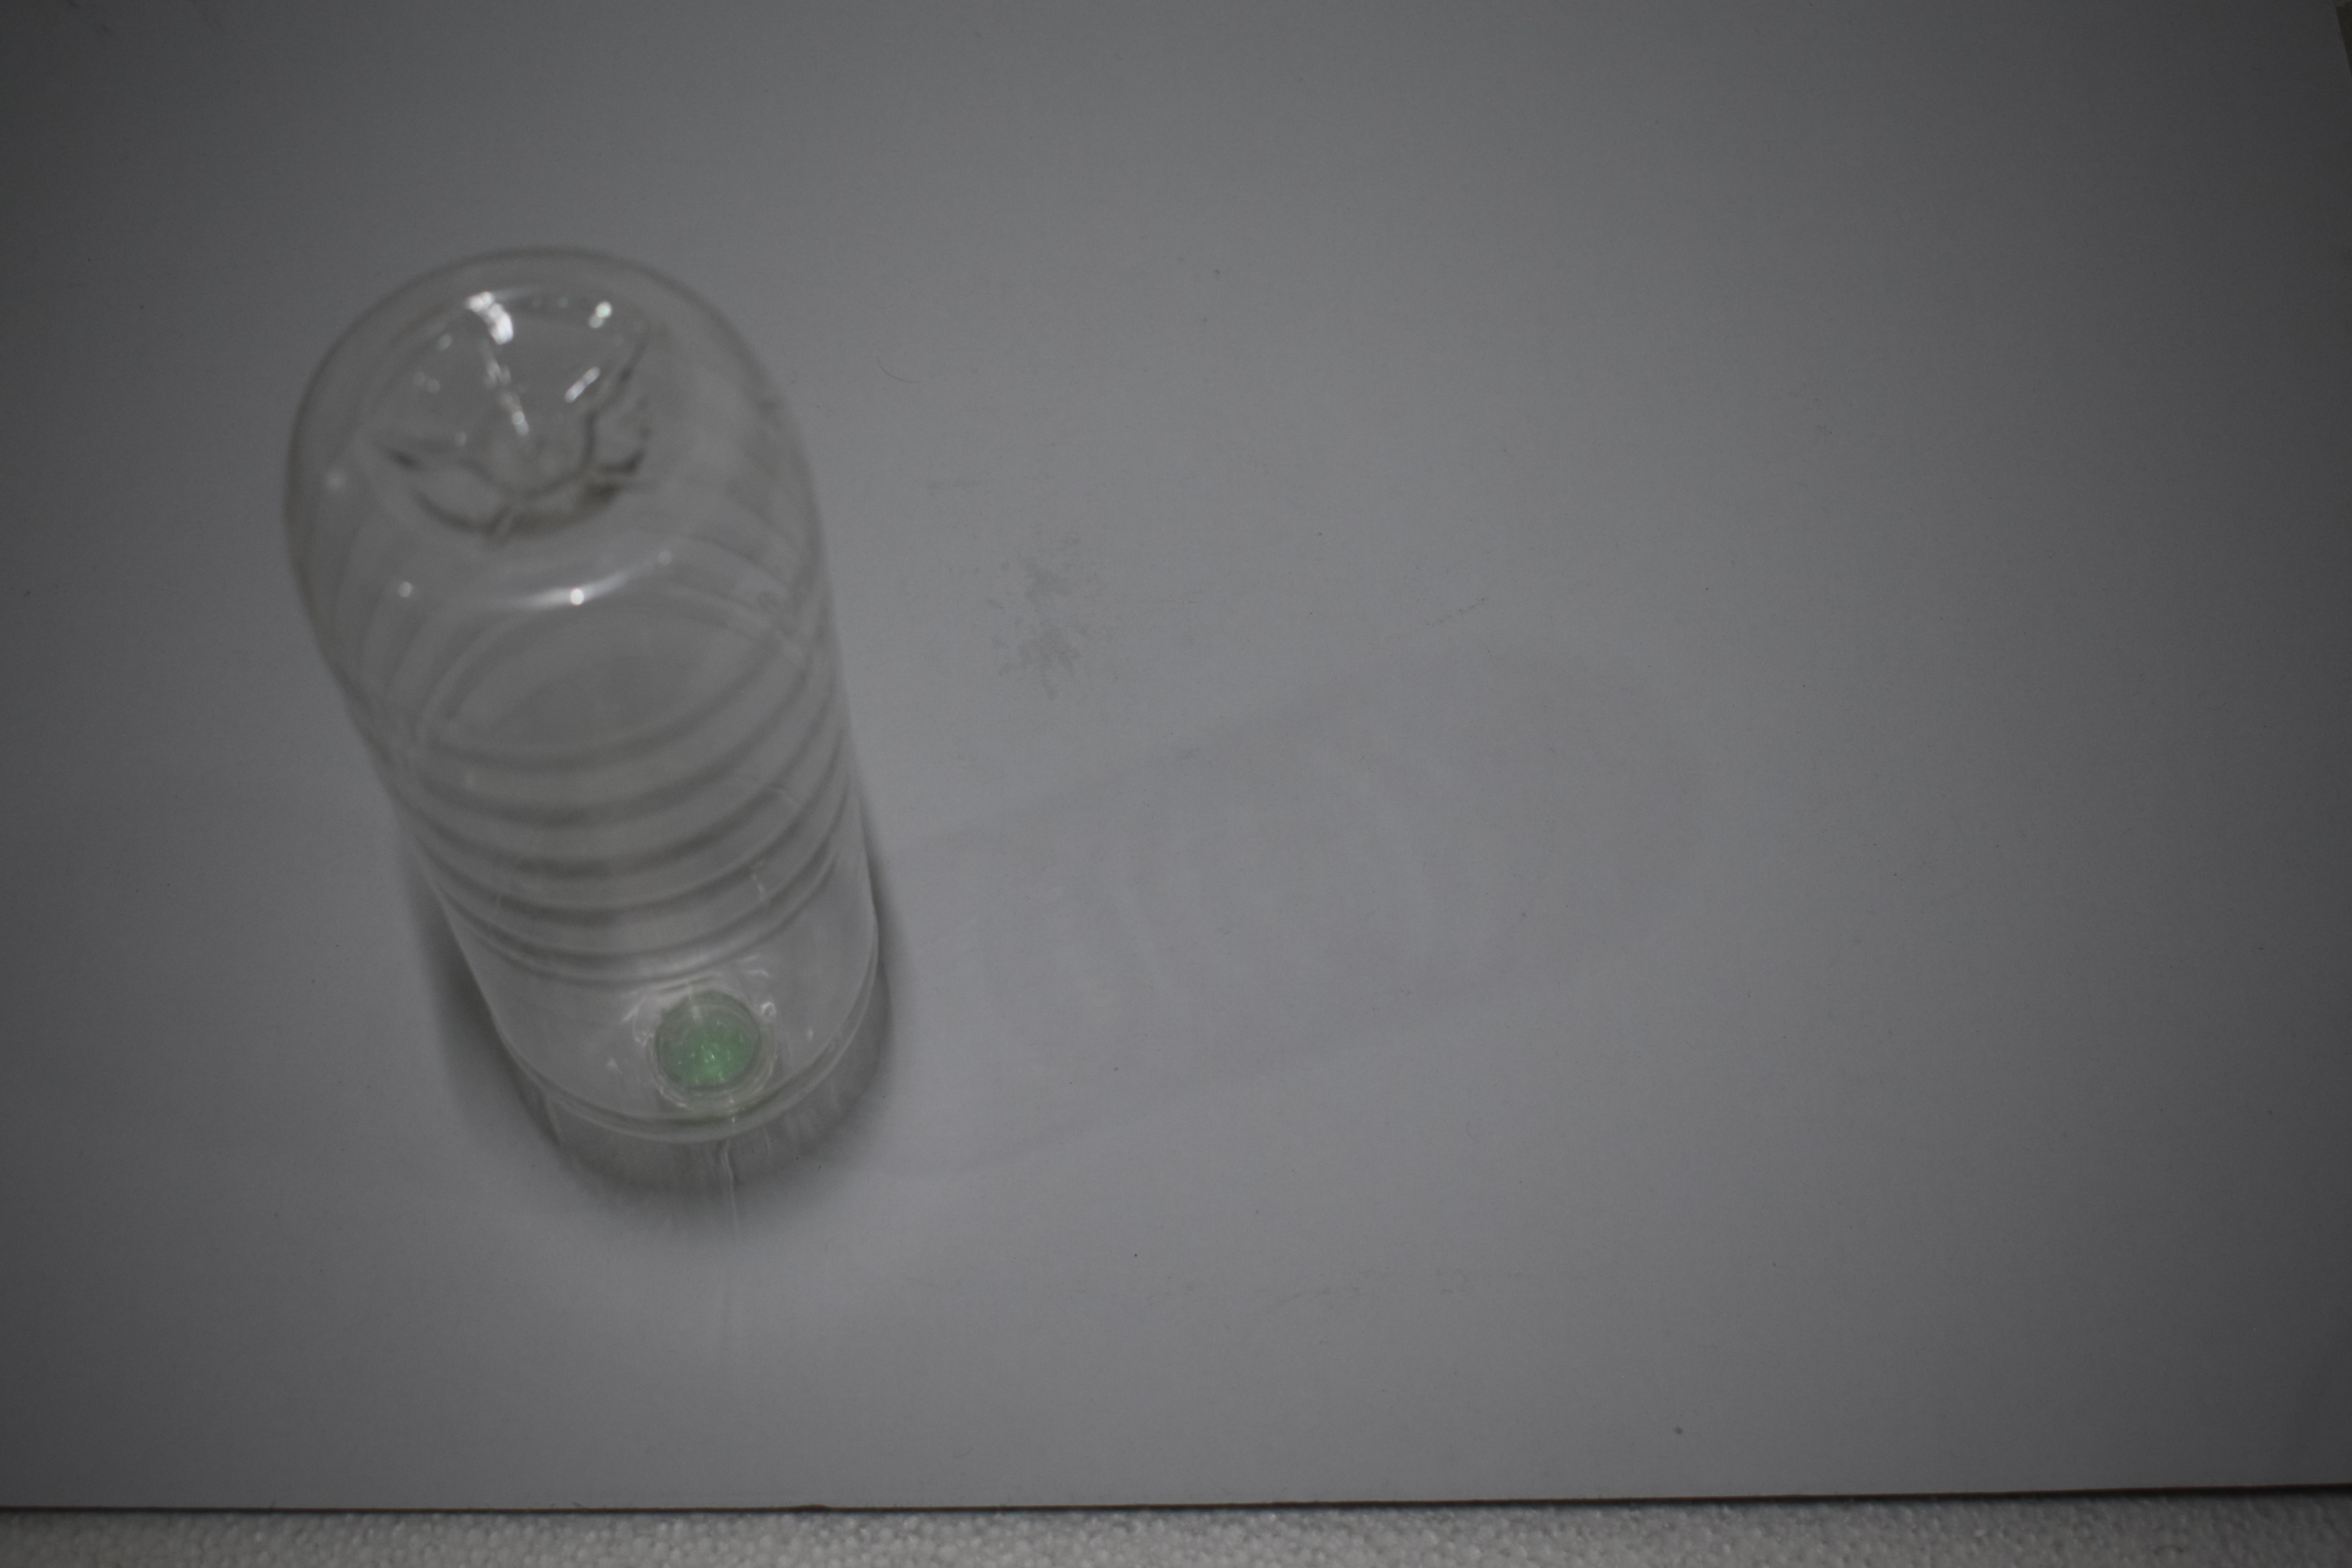bottle: (336, 628, 826, 765)
